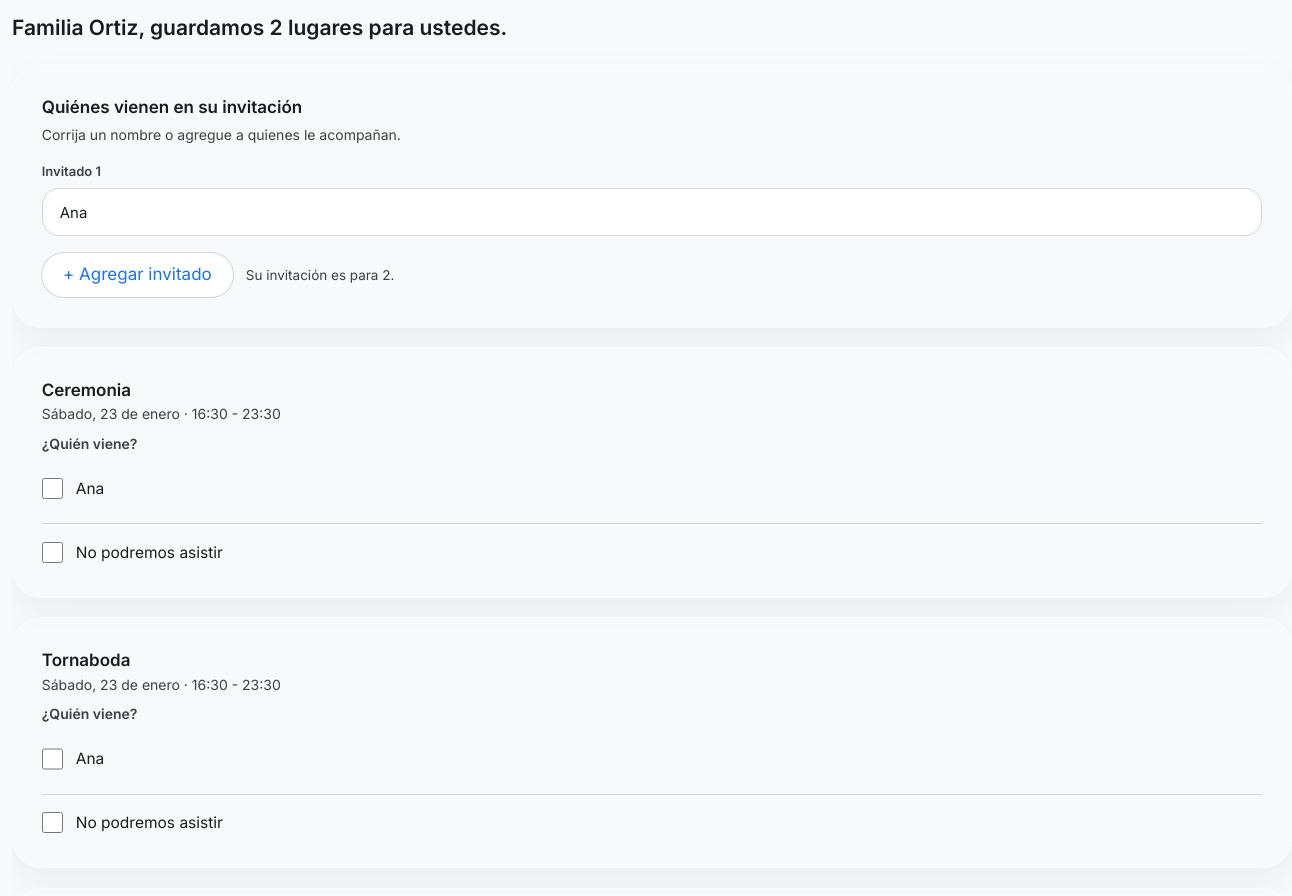
it: InvitationRsvp › stops adding guests at the seat limit and says what the limit is
What coordinates should you click on to do the following:
click the button "+ Agregar invitado"
I would click on:
 (137, 275)
Its box is [42,253,233,297].
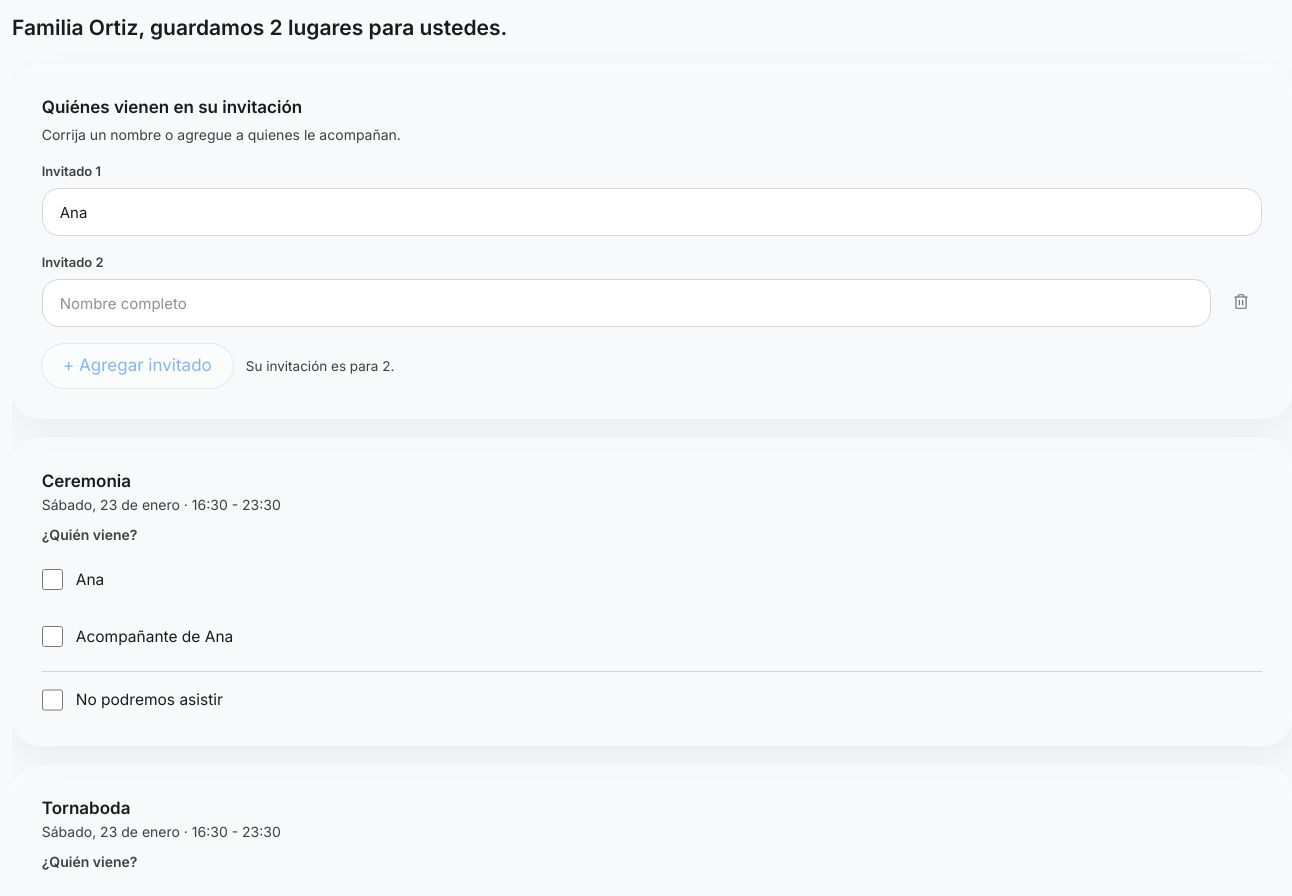
Now the number of fields with placeholder "Nombre completo" is 2, box [42,188,1262,236]; [42,279,1211,327]
Now the button "+ Agregar invitado" is disabled, box [42,344,233,388]
Now the checkbox labelled "Acompañante de Ana" is shown, box [42,626,63,647]
